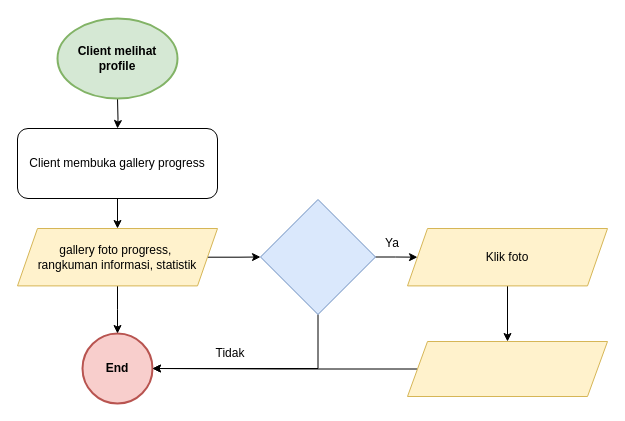
The diagram is 625 pixels wide and 421 high, and some of its shapes have lost their labels. Each missing label, with the centre of its shape:
"detail informasi foto latihan" goes at point 507,368.
"ingin melihat informasi foto?" goes at point 318,256.
